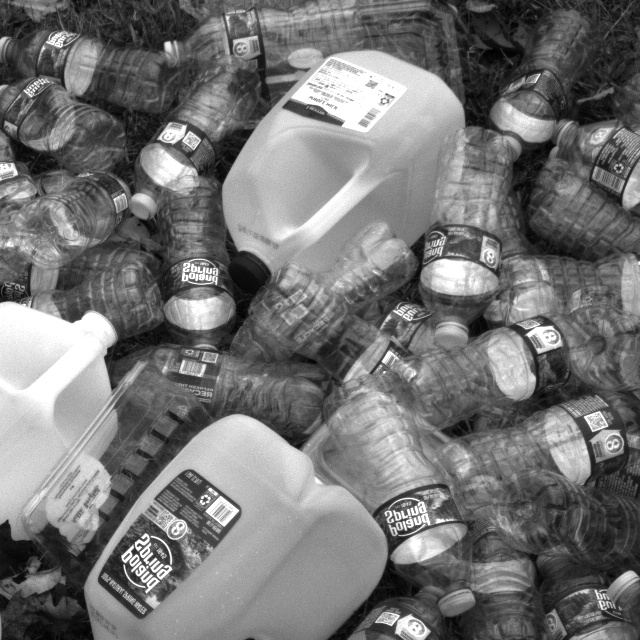bottle: (318, 392, 479, 628), (429, 380, 640, 530), (252, 270, 447, 428), (400, 313, 615, 428), (414, 118, 519, 340), (442, 469, 544, 640), (485, 5, 591, 165), (139, 343, 331, 426), (161, 173, 240, 367), (0, 27, 186, 102), (491, 243, 640, 336), (556, 112, 640, 266), (15, 161, 138, 265), (538, 552, 640, 640)
can: (86, 411, 389, 640), (220, 47, 470, 291), (0, 304, 117, 567)
container: (174, 0, 458, 111)
